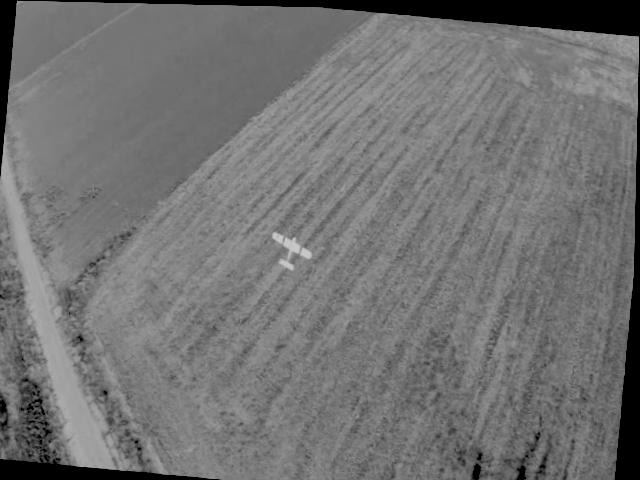hedef: (262, 220, 321, 280)
